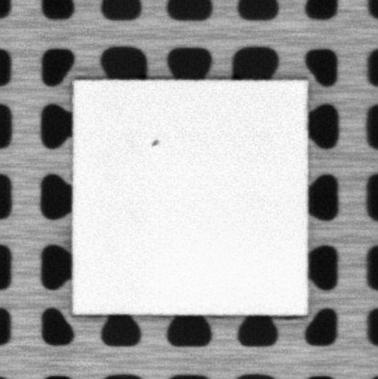DIE_INK: (151, 138, 159, 147)
